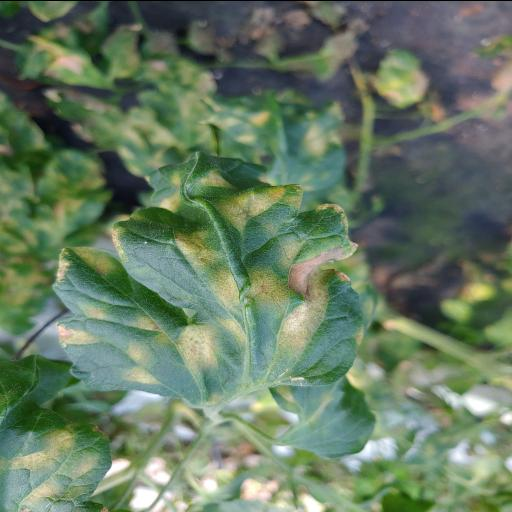Leaf Mold: (51, 150, 365, 404)
